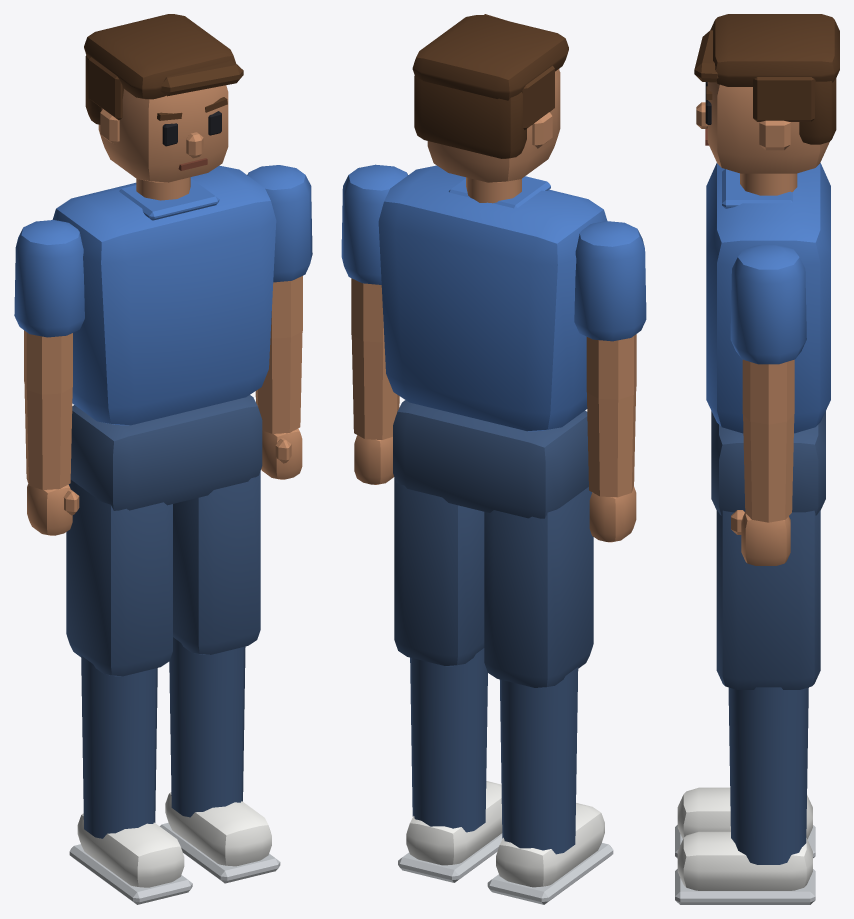
The model's file is char_homeowner.glb.
3 views of the same model, side by side, from view 1: azimuth 30°, elevation 25°; view 2: azimuth 150°, elevation 25°; view 3: azimuth 270°, elevation 25° (orthographic). The views are drawn at different scales.
Parts seen in each view (by area): view 1: Torso, LegR, LegL, Head, ArmR, ArmL; view 2: Torso, LegR, LegL, Head, ArmR, ArmL; view 3: LegL, Torso, Head, ArmL, LegR.
Boxes of the visible parts, x1,y1,x2,y2 form: Torso: (52,165,276,510); LegR: (66,480,192,904); LegL: (160,471,280,883); Head: (84,14,243,182); ArmR: (14,220,84,535); ArmL: (247,165,312,479); Torso: (378,165,607,518); LegR: (484,487,613,904); LegL: (394,477,502,882); Head: (412,14,568,182); ArmR: (574,221,646,542); ArmL: (341,164,407,484); LegL: (675,510,820,904); Torso: (706,163,830,515); Head: (694,14,839,173); ArmL: (730,245,806,565); LegR: (675,787,815,858).
Size of the model in its own units: 0.6535 by 1.78 by 0.317.
